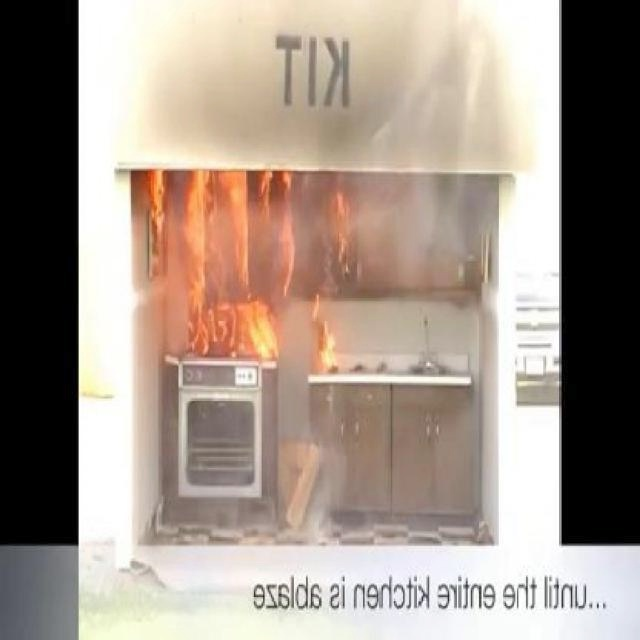fire: (133, 167, 370, 378)
smoke: (168, 19, 507, 167), (381, 171, 495, 345)
